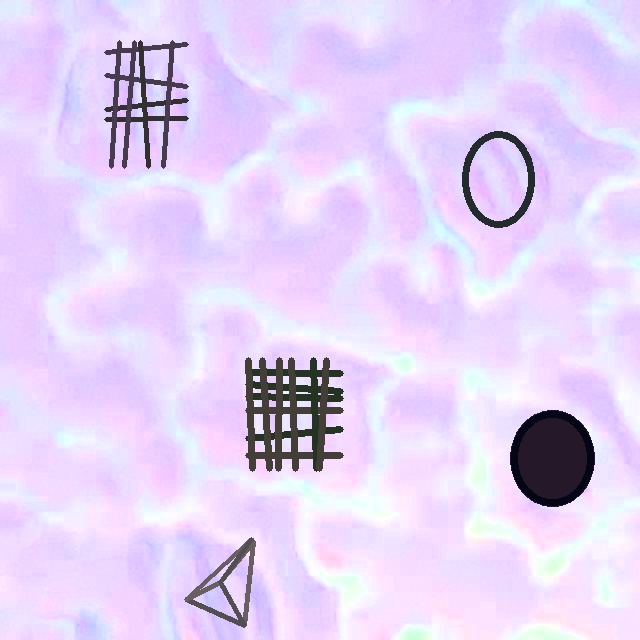close: (246, 357, 342, 470)
open: (104, 41, 188, 168), (511, 410, 594, 505), (462, 131, 535, 226), (184, 537, 255, 627)
